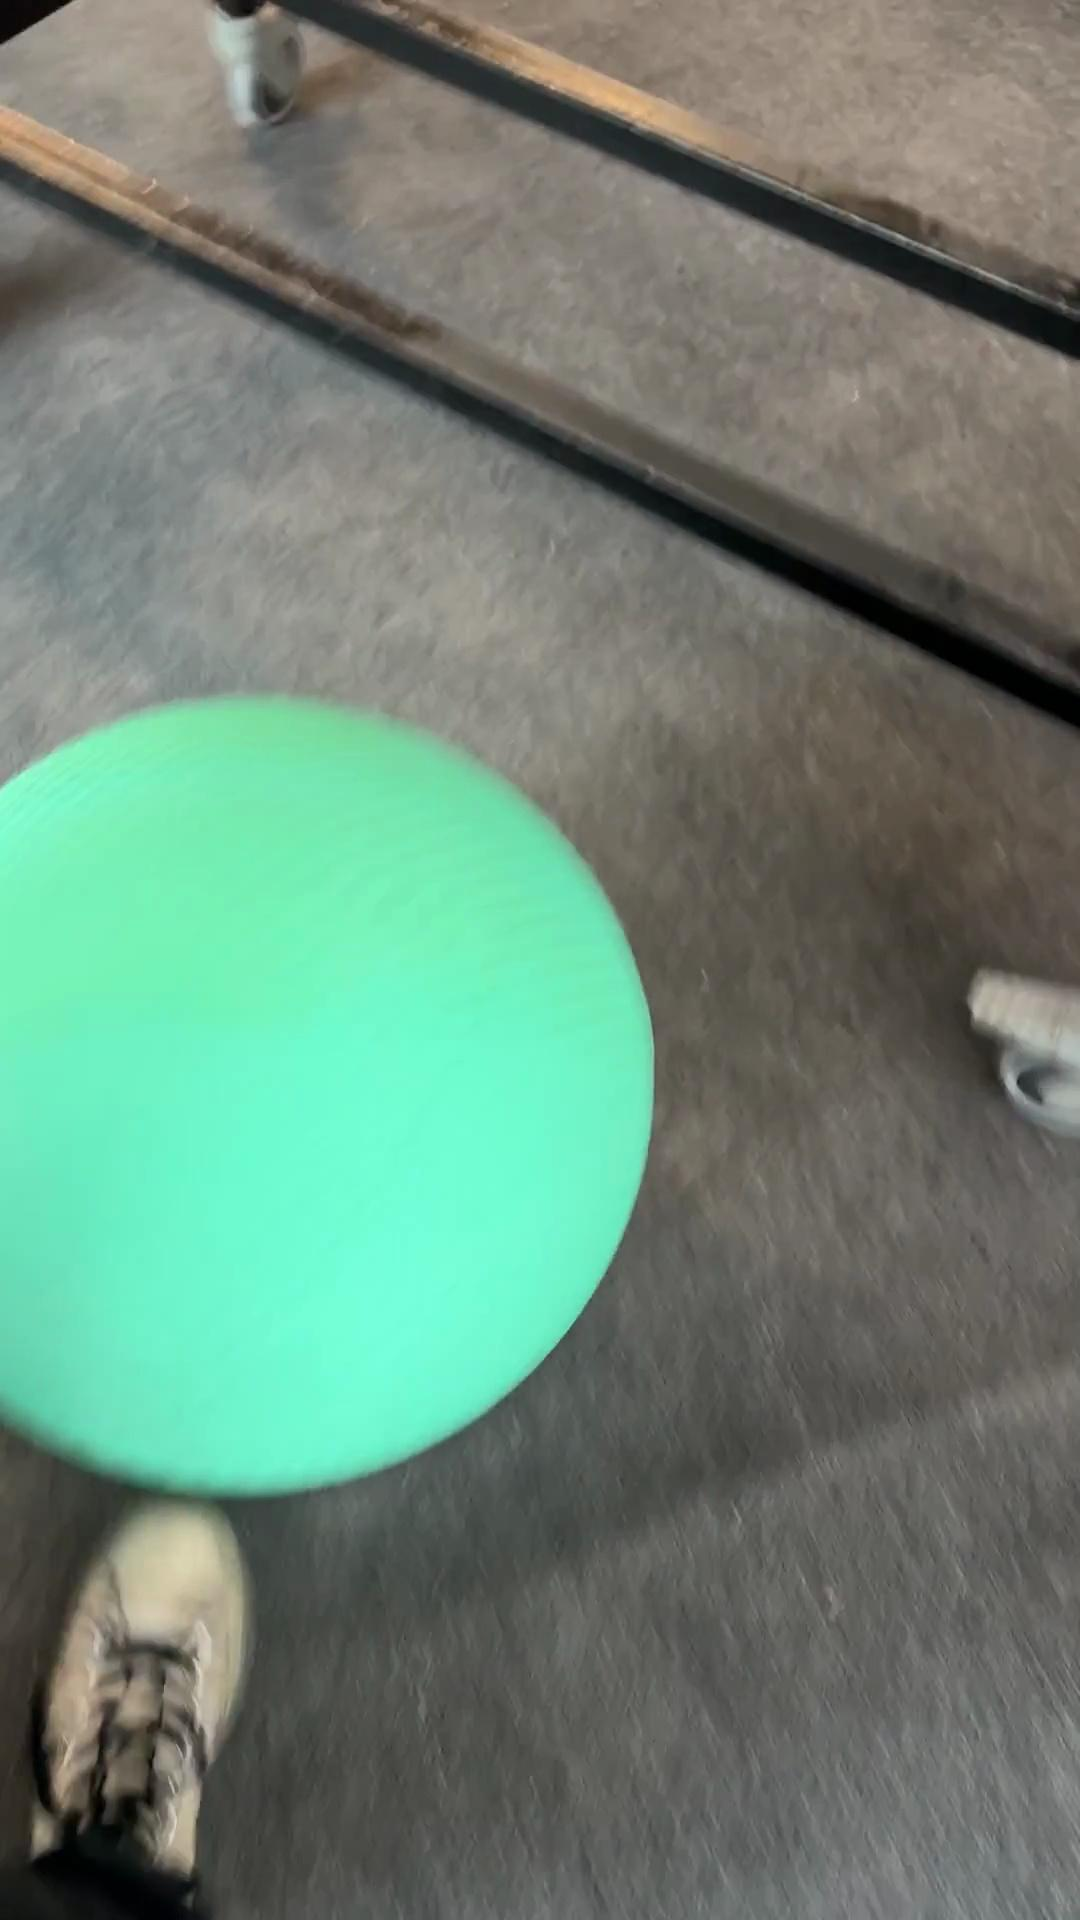ALGAE: (1, 690, 657, 1501)
